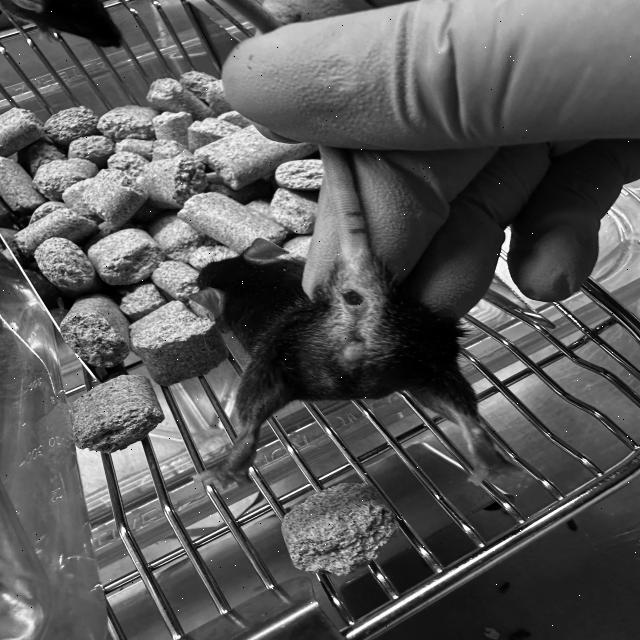Genital: (230, 224, 466, 433)
